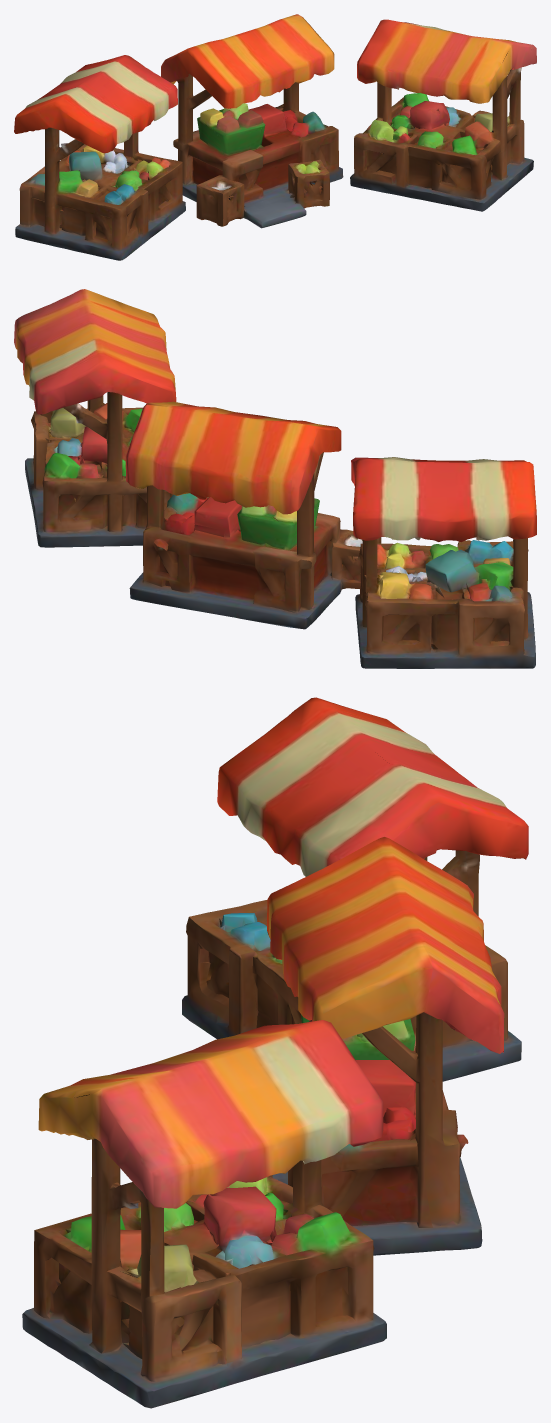
The model's file is market.glb.
The picture shows the model from 3 angles, top to bottom: view 1: azimuth 30°, elevation 25°; view 2: azimuth 150°, elevation 25°; view 3: azimuth 270°, elevation 25°; orthographic projection. The views are drawn at different scales.
Visible parts, largest first — view 1: RETOPO; view 2: RETOPO; view 3: RETOPO.
Part boxes in pixels (x1=…): RETOPO: x1=14, y1=14, x2=536, y2=260; RETOPO: x1=14, y1=289, x2=536, y2=668; RETOPO: x1=22, y1=697, x2=528, y2=1408.
Size of the model in its own units: 0.9964 by 0.3006 by 0.4697.
1 material, 1 textured.
